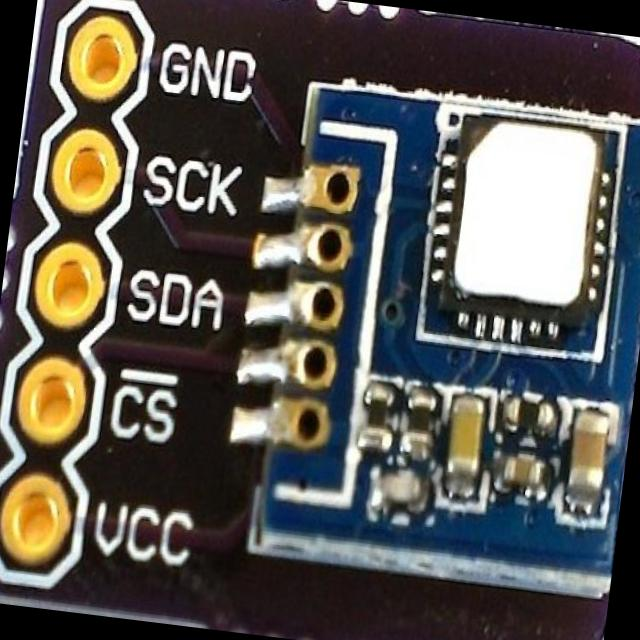IC: (428, 115, 616, 349)
LED: (377, 474, 418, 504)
capacitor: (558, 408, 616, 522), (446, 402, 489, 484), (504, 458, 540, 486)
resistor: (406, 397, 436, 448), (366, 387, 392, 437), (508, 397, 550, 427)
